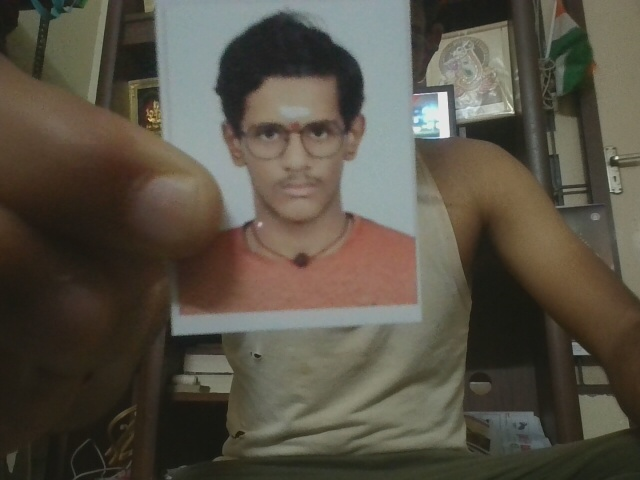fake: (220, 77, 370, 227)
